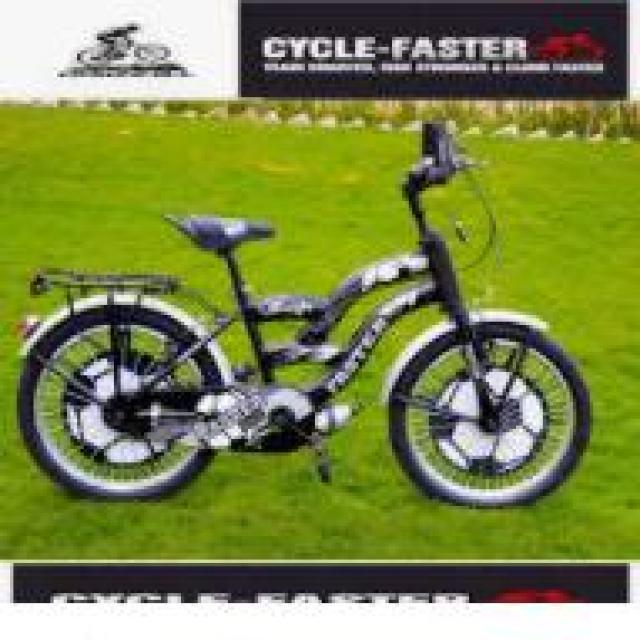bicycle: (15, 175, 605, 507)
